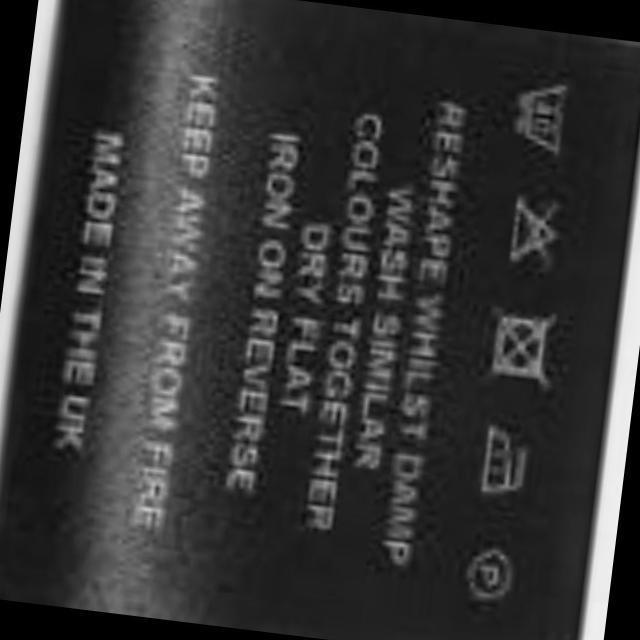40C: (503, 70, 576, 158)
DN_bleach: (499, 186, 570, 273)
DN_tumble_dry: (469, 294, 564, 396)
iron_medium: (470, 413, 540, 504)
normal_dry_clean_solvents: (458, 538, 521, 606)
